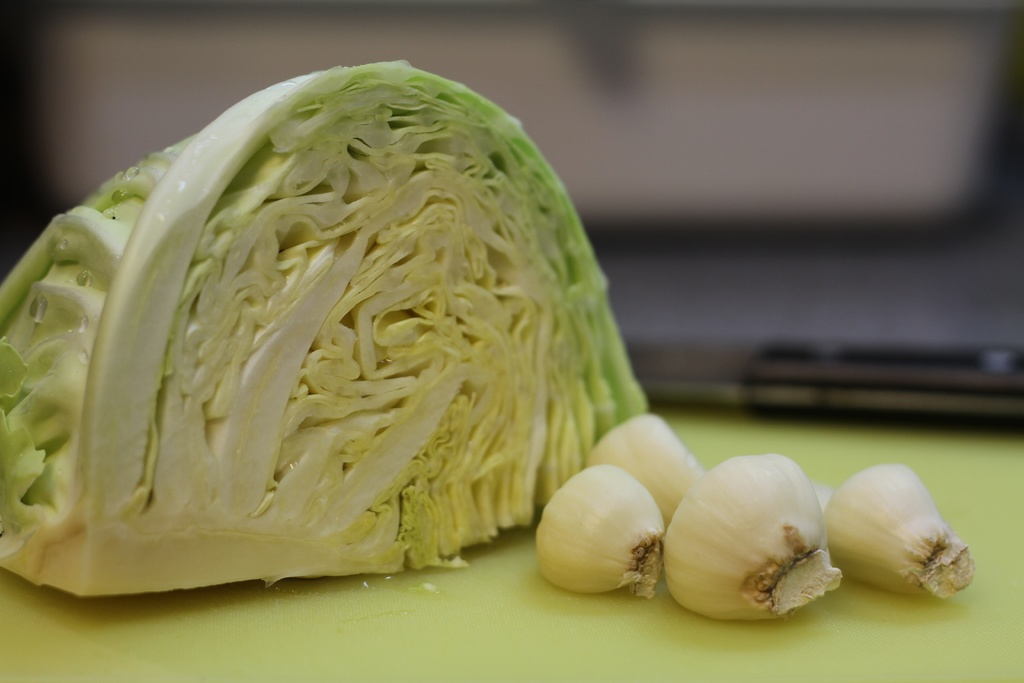Cabbage: (0, 59, 649, 597)
